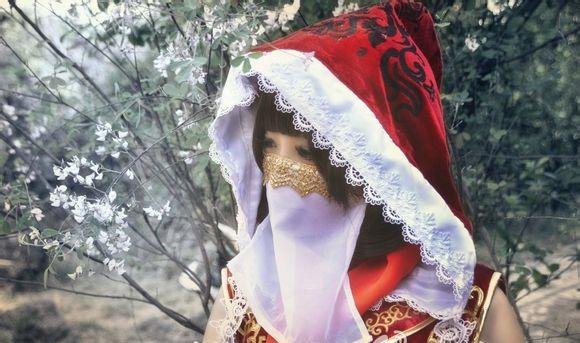OK: (258, 128, 363, 222)
